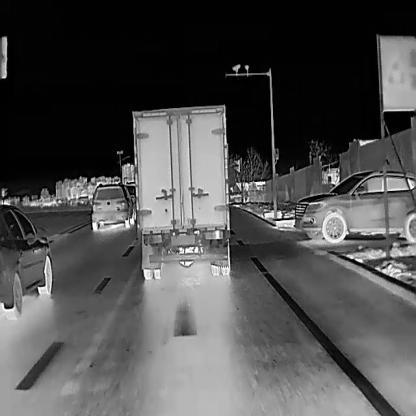car: (130, 102, 232, 279), (293, 169, 415, 243), (0, 203, 51, 319), (91, 181, 136, 230)
